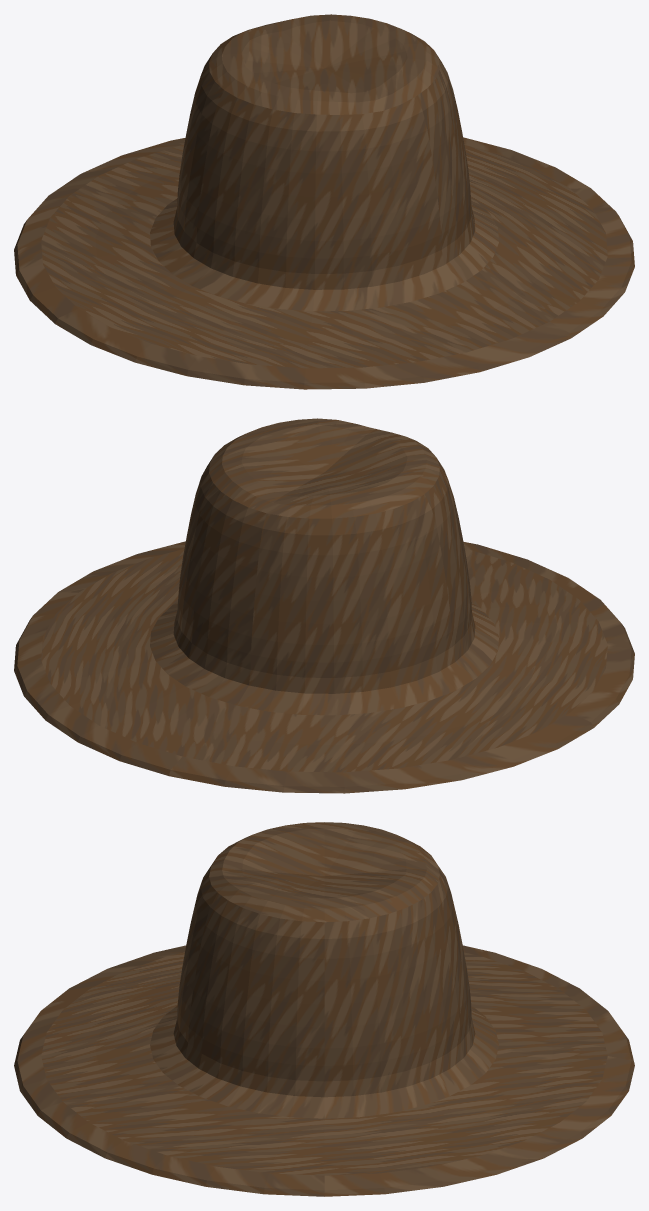
File: sombrero.fbx
The picture shows the model from 3 angles, top to bottom: view 1: azimuth 30°, elevation 25°; view 2: azimuth 150°, elevation 25°; view 3: azimuth 270°, elevation 25°; orthographic projection.
Parts seen in each view (by area): view 1: Cilindro; view 2: Cilindro; view 3: Cilindro.
Boxes of the visible parts, left/top/right/bottom form: Cilindro: left=14, top=14, right=634, bottom=389; Cilindro: left=14, top=418, right=634, bottom=793; Cilindro: left=14, top=822, right=634, bottom=1196.
Size of the model in its own units: 287 by 103 by 287.
